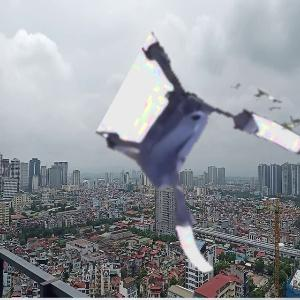drone: (93, 66, 294, 267)
